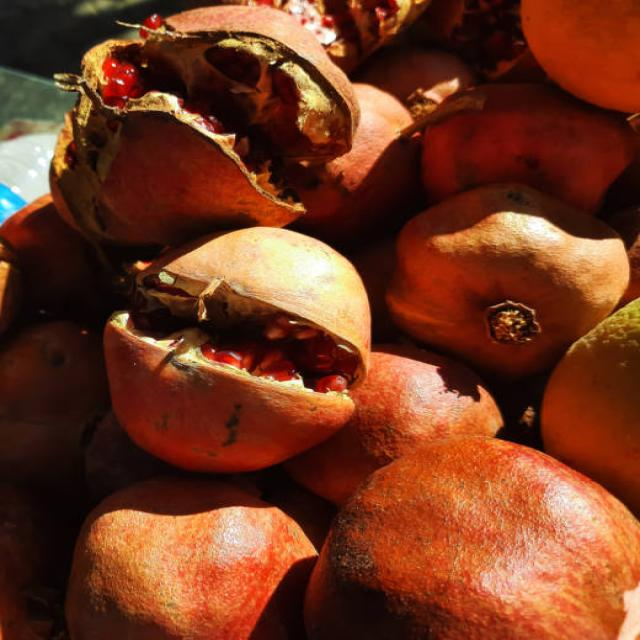overripe: (89, 220, 378, 474), (68, 3, 369, 222)
